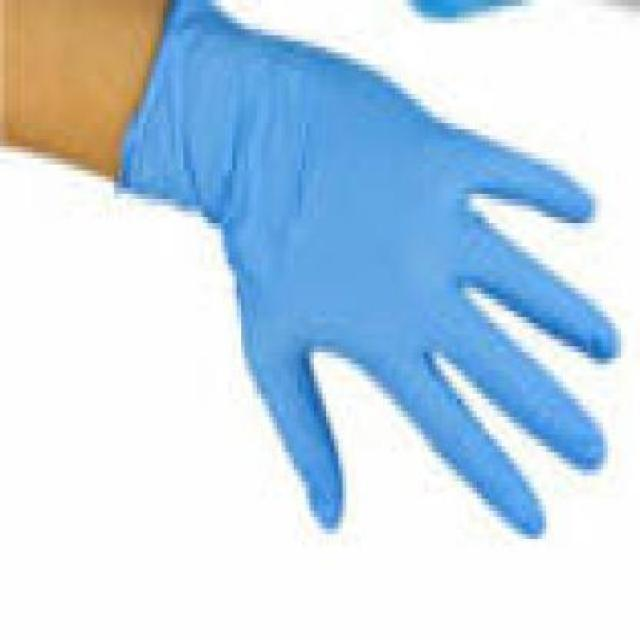gloved_hand: (118, 6, 624, 546)
